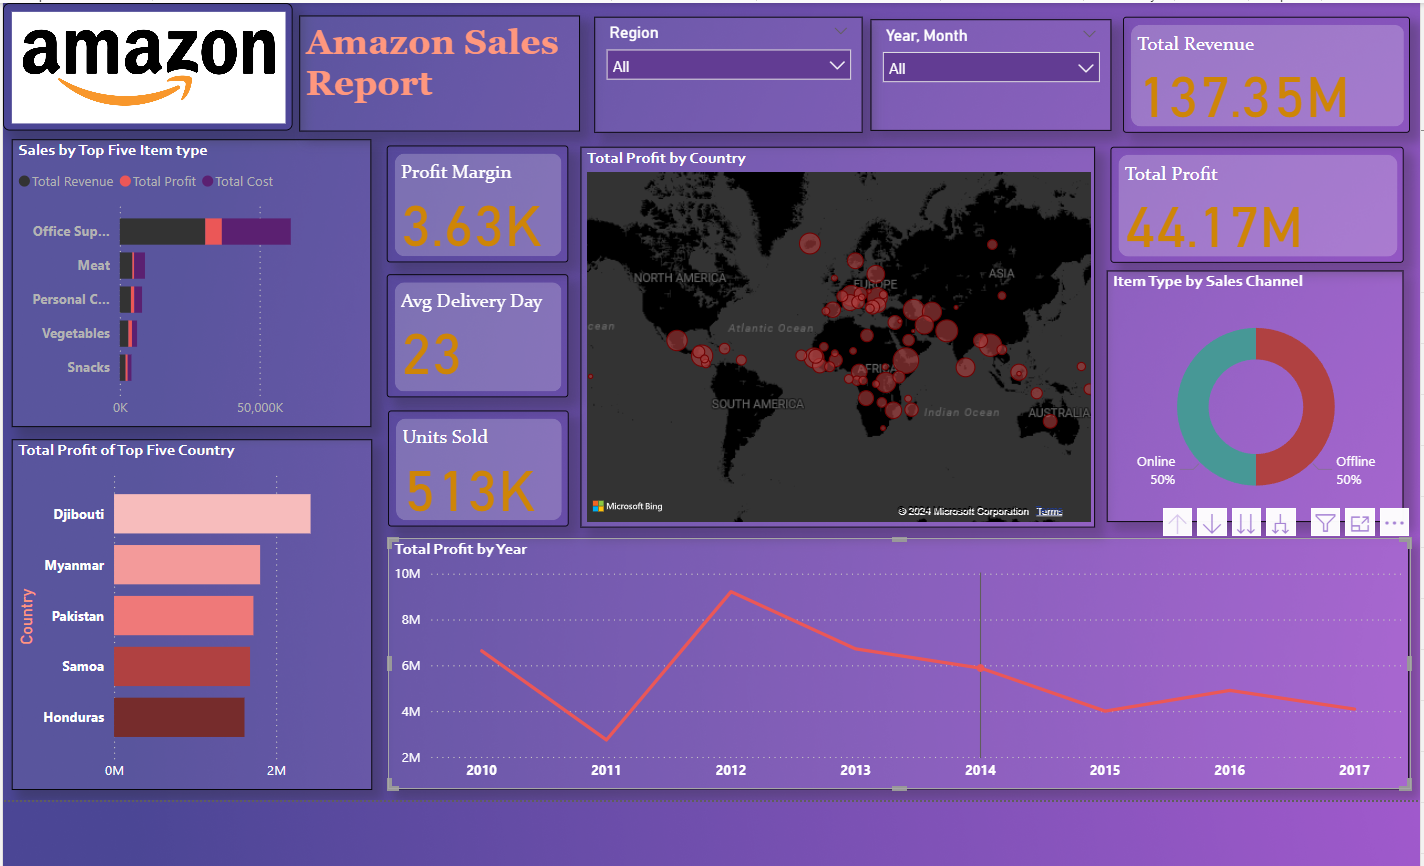

What the dashboard file says about the page in this screenshot:
{"tool":"powerbi","page":{"name":"Page 1","canvas":[1280,720],"ordinal":0},"visuals":[{"type":"image","box":[0,0,261.6,115.1],"z":0},{"type":"cardVisual","fields":{"Data":["Sum(Amazon Sales data.Total Revenue)"]},"box":[1011.3,12.7,259.2,104.7],"z":1000},{"type":"cardVisual","fields":{"Data":["Sum(Amazon Sales data.Units Sold)"]},"box":[348,368.1,162.9,104.7],"z":2000},{"type":"cardVisual","fields":{"Data":["Sum(Amazon Sales data.Total Profit)"]},"box":[1000.9,129.9,264.7,104.7],"z":3000},{"type":"barChart","title":"Sales by Top Five Item type","fields":{"Category":["Amazon Sales data.Item Type"],"Y":["Sum(Amazon Sales data.Total Revenue)","Sum(Amazon Sales data.Total Profit)","Sum(Amazon Sales data.Total Cost)"]},"box":[8.2,123.5,325,259.8],"z":4000},{"type":"map","fields":{"Category":["Amazon Sales data.Country"],"Size":["Sum(Amazon Sales data.Total Profit)"]},"box":[521.9,129.3,464.8,343.6],"z":6000},{"type":"donutChart","title":"Item Type by Sales Channel","fields":{"Category":["Amazon Sales data.Sales Channel"],"Y":["CountNonNull(Amazon Sales data.Item Type)"]},"box":[997.3,241.8,268.3,227.4],"z":7000},{"type":"slicer","fields":{"Values":["Amazon Sales data.Region"]},"box":[534,12.5,242.6,104.6],"z":8000},{"type":"slicer","fields":{"Values":["Amazon Sales data.Order Date.Variation.Date Hierarchy.Year","Amazon Sales data.Order Date.Variation.Date Hierarchy.Month"]},"box":[783.2,14.4,217.7,101.1],"z":9000},{"type":"cardVisual","fields":{"Data":["Sum(Amazon Sales data.Profit Margin)"]},"box":[346.5,128.7,163.6,105.9],"z":10000},{"type":"cardVisual","fields":{"Data":["Avg(Amazon Sales data.Days to deliver)"]},"box":[347,245.4,164,111.1],"z":11000},{"type":"barChart","title":"Total Profit of Top Five Country","fields":{"Category":["Amazon Sales data.Country"],"Y":["Sum(Amazon Sales data.Total Profit)"]},"box":[8.4,393.8,325.4,317],"z":12000},{"type":"lineChart","title":"Total Profit by Year","fields":{"Category":["Amazon Sales data.Order Date.Variation.Date Hierarchy.Year","Amazon Sales data.Order Date.Variation.Date Hierarchy.Month","Amazon Sales data.Order Date.Variation.Date Hierarchy.Day"],"Y":["Sum(Amazon Sales data.Total Profit)"]},"box":[348.3,483.4,922.6,227.2],"z":12001},{"type":"textbox","box":[267.7,11.2,253.8,104.6],"z":12002}]}

Visuals, with their boxes in screenshot pixels (x1, y1, x2, y2):
image: BBox(0, 0, 286, 120)
cardVisual - Sum(Amazon Sales data.Total Revenue): BBox(1139, 3, 1423, 122)
cardVisual - Sum(Amazon Sales data.Units Sold): BBox(385, 408, 570, 527)
cardVisual - Sum(Amazon Sales data.Total Profit): BBox(1127, 137, 1423, 256)
"Sales by Top Five Item type" barChart: BBox(0, 129, 368, 425)
map - Amazon Sales data.Country x Sum(Amazon Sales data.Total Profit): BBox(583, 136, 1111, 527)
"Item Type by Sales Channel" donutChart: BBox(1123, 264, 1423, 523)
slicer - Amazon Sales data.Region: BBox(596, 3, 872, 122)
slicer - Amazon Sales data.Order Date.Variation.Date Hierarchy.Year x Amazon Sales data.Order Date.Variation.Date Hierarchy.Month: BBox(880, 5, 1127, 120)
cardVisual - Sum(Amazon Sales data.Profit Margin): BBox(383, 135, 569, 256)
cardVisual - Avg(Amazon Sales data.Days to deliver): BBox(384, 268, 570, 394)
"Total Profit of Top Five Country" barChart: BBox(0, 437, 369, 797)
"Total Profit by Year" lineChart: BBox(385, 539, 1423, 797)
textbox: BBox(293, 2, 582, 121)
